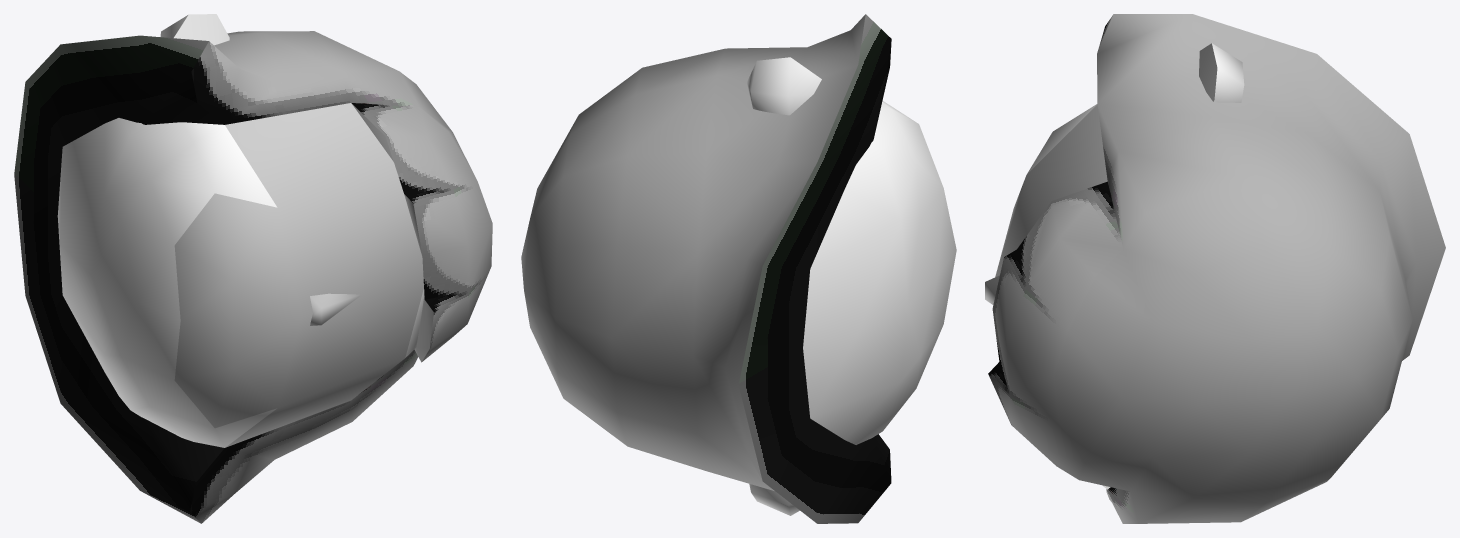
The model's file is girl01a.dae.
3 renders of one model, left to right at view 1: azimuth 30°, elevation 25°; view 2: azimuth 150°, elevation 25°; view 3: azimuth 270°, elevation 25°, orthographic. The views are drawn at different scales.
Parts seen in each view (by area): view 1: vsn_mesh_1_, vsn_mesh_0_, vsn_mesh_2_; view 2: vsn_mesh_1_; view 3: vsn_mesh_1_, vsn_mesh_0_.
Boxes of the visible parts, box(x1,y1,x2,y2) form: vsn_mesh_1_: box(14, 14, 492, 523); vsn_mesh_0_: box(225, 103, 423, 447); vsn_mesh_2_: box(174, 193, 301, 428); vsn_mesh_1_: box(521, 14, 956, 523); vsn_mesh_1_: box(988, 14, 1445, 523); vsn_mesh_0_: box(985, 104, 1107, 304).
Size of the model in its own units: 21.83 by 28.44 by 23.65.
Materials: 3 (1 with a texture image).
